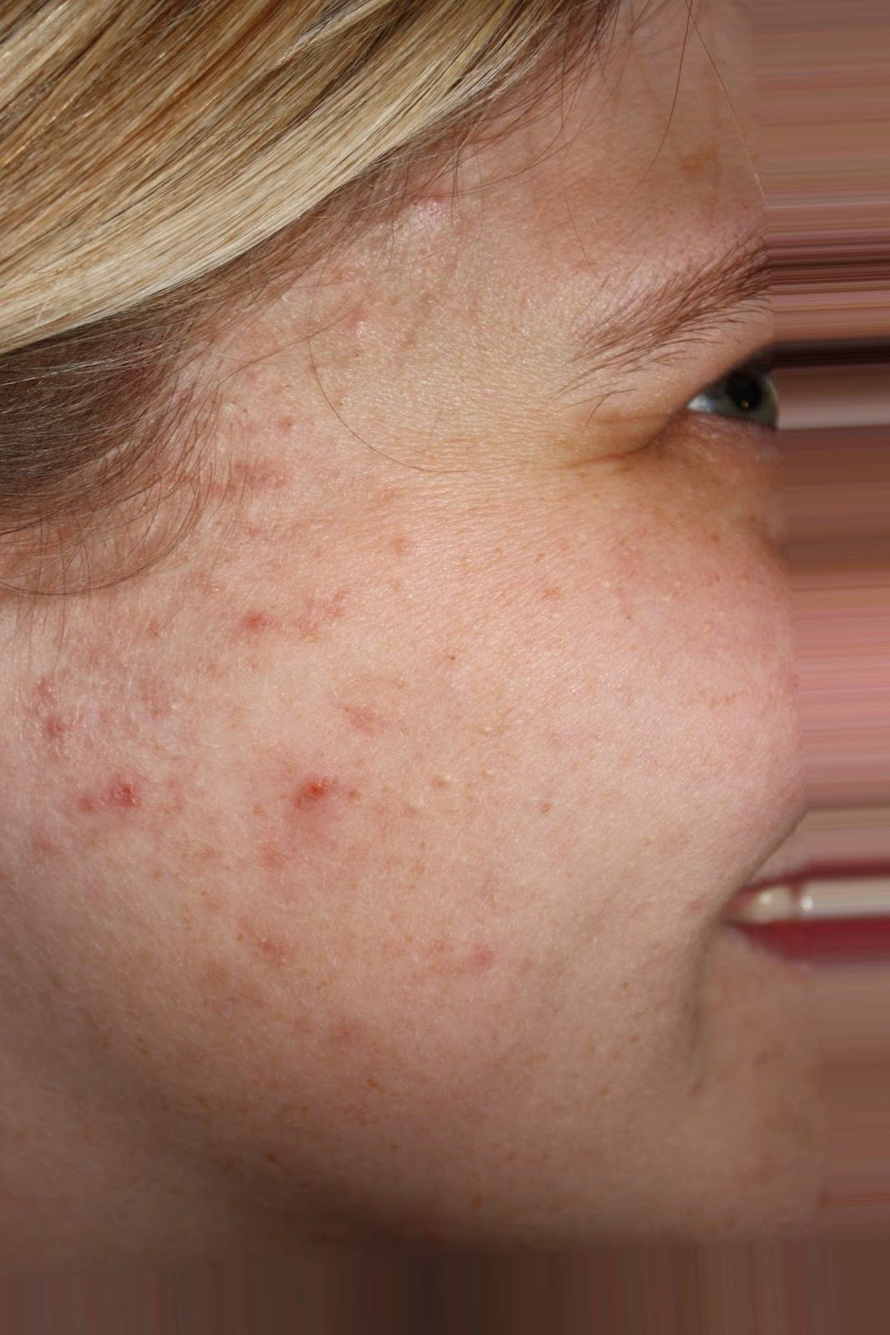Acne: (44, 205, 537, 1047)
